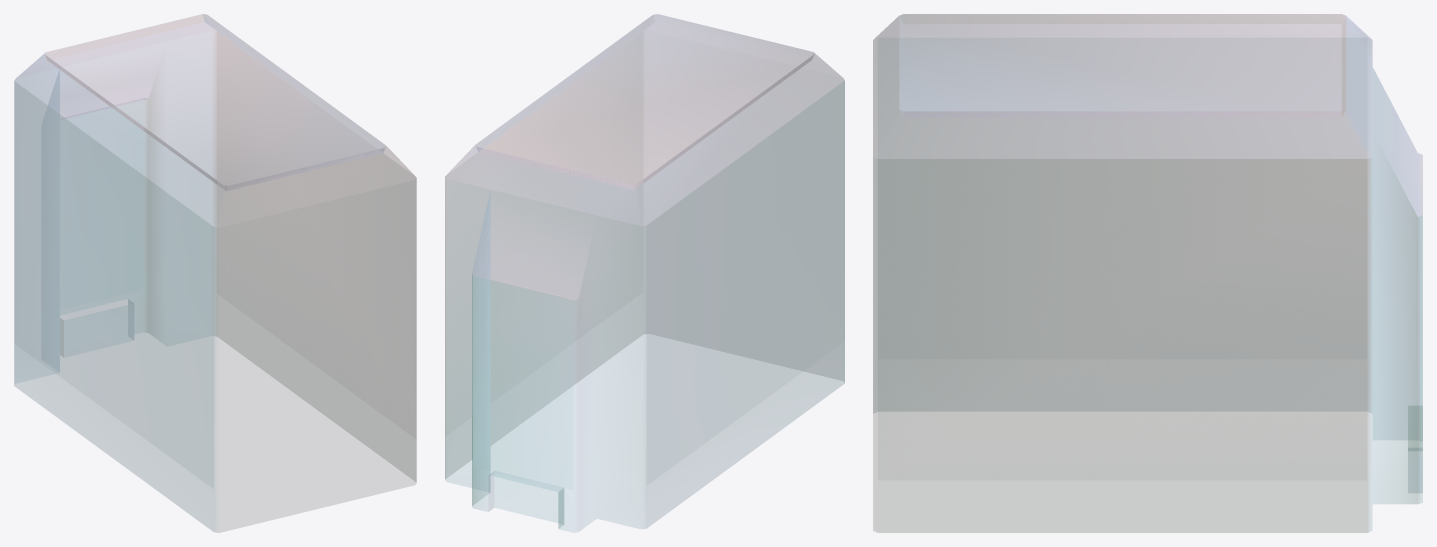
The model's file is CEN_B4D6.preview.glb.
The picture shows the model from 3 angles, left to right: view 1: azimuth 30°, elevation 25°; view 2: azimuth 150°, elevation 25°; view 3: azimuth 270°, elevation 25°; orthographic projection. The views are drawn at different scales.
Parts seen in each view (by area): view 1: obj_1400, obj_10c0, obj_420, obj_780, obj_16d0, obj_920; view 2: obj_1400, obj_10c0, obj_420, obj_780, obj_16d0, obj_920; view 3: obj_1400, obj_16d0, obj_10c0, obj_420, obj_780.
Part boxes in pixels (x1,y1,x2,y2): obj_1400: (15,32,416,489); obj_10c0: (14,31,416,532); obj_420: (45,14,385,190); obj_780: (15,14,415,227); obj_16d0: (60,119,143,309); obj_920: (64,304,133,356); obj_1400: (445,31,844,489); obj_10c0: (445,177,844,532); obj_420: (476,14,813,189); obj_780: (445,14,843,225); obj_16d0: (490,280,573,403); obj_920: (494,471,563,522); obj_1400: (873,38,1422,479); obj_16d0: (878,159,1366,359); obj_10c0: (873,39,1422,532); obj_420: (899,14,1345,117); obj_780: (873,14,1372,158).
Bounding box in the file's own units: 37.94 × 59.79 × 72.71.
